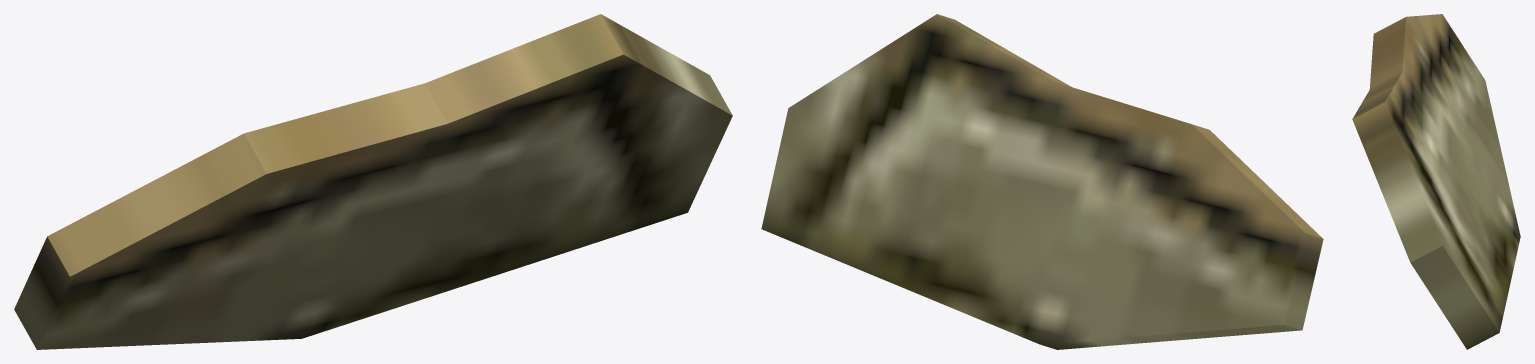
The model's file is GLA - Aviation - Cargo Plane - Damage State 2 - UVCargoPln_d2.glb.
The picture shows the model from 3 angles, left to right: view 1: azimuth 30°, elevation 25°; view 2: azimuth 150°, elevation 25°; view 3: azimuth 270°, elevation 25°; orthographic projection. The views are drawn at different scales.
Visible parts, largest first — view 1: UVCARGOPLN_D2; view 2: UVCARGOPLN_D2; view 3: UVCARGOPLN_D2.
Part boxes in pixels (<box>): UVCARGOPLN_D2: <box>14,14,732,349</box>; UVCARGOPLN_D2: <box>761,14,1323,349</box>; UVCARGOPLN_D2: <box>1352,14,1520,349</box>.
Bounding box in the file's own units: 10.96 × 5.07 × 3.36.
Materials: 1 (1 with a texture image).
